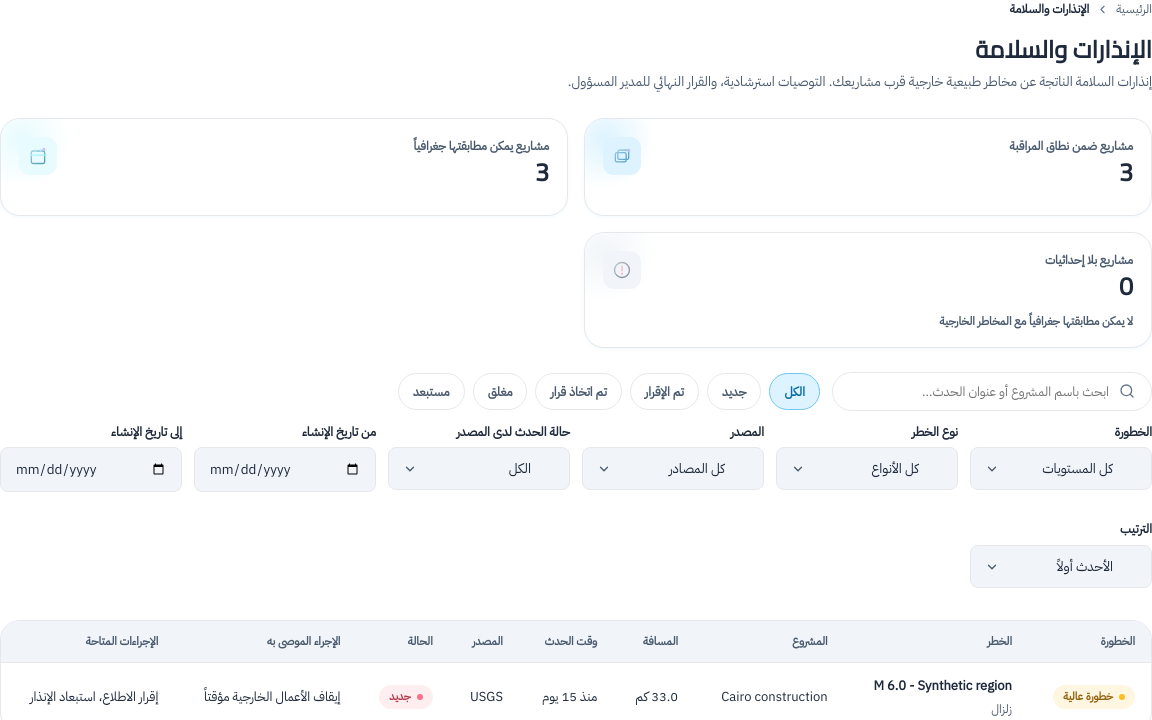
Test case: SafetyAlertsPage › converts created date filters to ISO boundaries and blocks reversed ranges
The image size is (1152, 720).
Expected: the text "M 6.0 - Synthetic region" is shown, [860,676,1012,696]
In the date field labelled "من تاريخ الإنشاء": (285, 470) [194,447,376,492], type "2026-09-10"
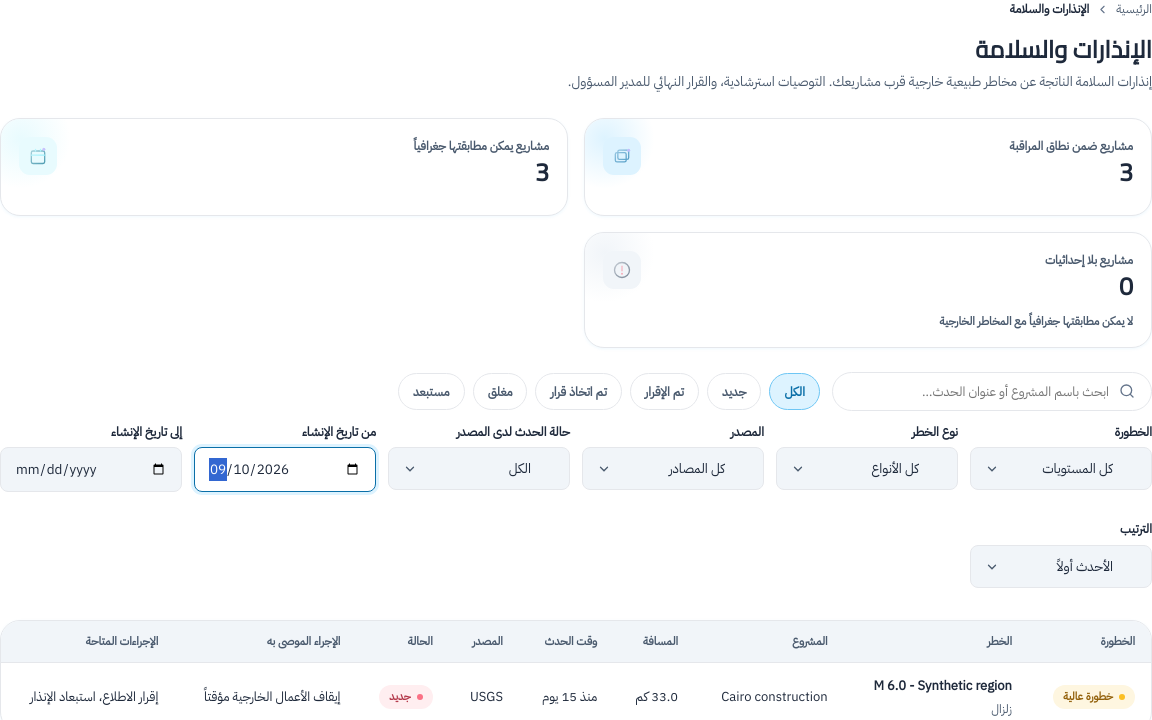
In the date field labelled "إلى تاريخ الإنشاء": (91, 470) [0,447,182,492], type "2026-09-01"
(page scrolled)
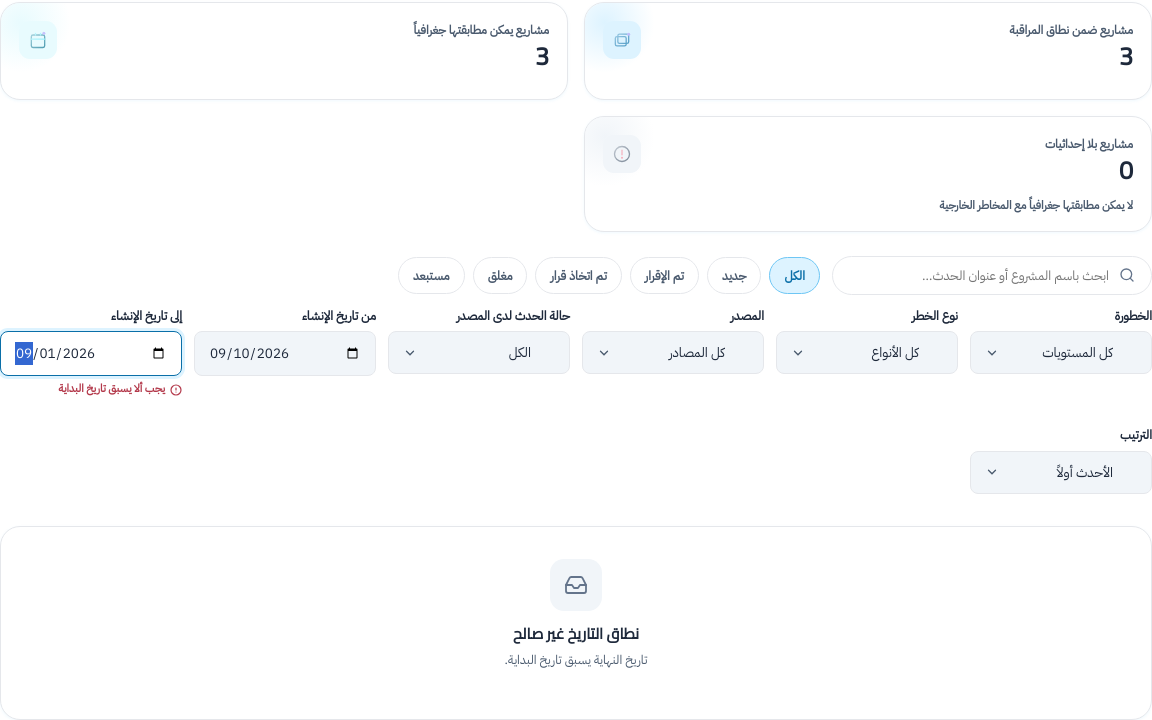
Expected: the text "يجب ألا يسبق تاريخ البداية" is shown, [58,380,182,397]
Expected: the heading "نطاق التاريخ غير صالح" is shown, [513,619,639,648]
